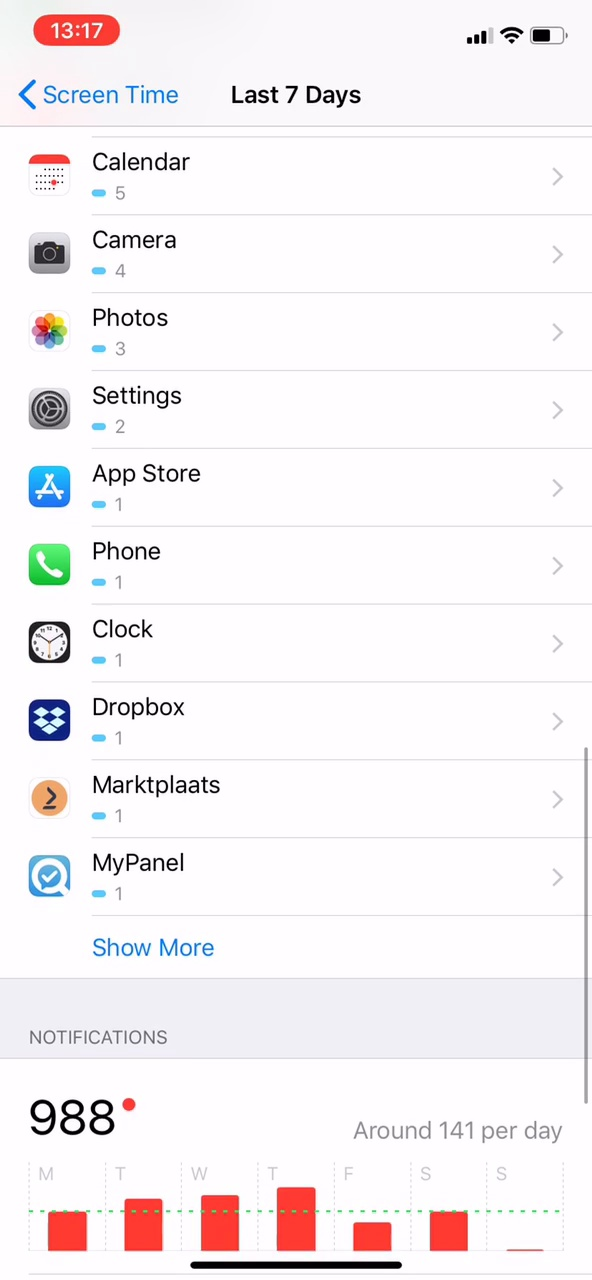not_over: (9, 1007, 212, 1147)
pick_app: (15, 289, 243, 366), (23, 842, 245, 919), (23, 761, 243, 838), (15, 374, 231, 450), (17, 686, 243, 758), (20, 528, 236, 603), (18, 453, 236, 525), (20, 608, 237, 677), (12, 144, 228, 213), (14, 225, 232, 289)
week: (211, 65, 370, 111)
